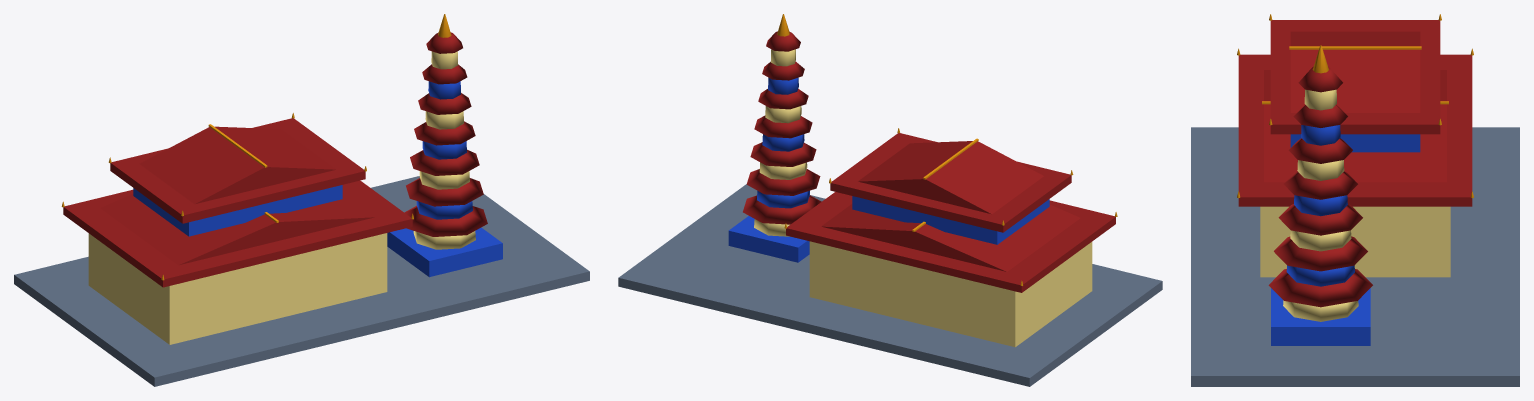
Rendered from lm_16_chua_linh_phuoc_base.glb.
3 renders of one model, left to right at view 1: azimuth 30°, elevation 25°; view 2: azimuth 150°, elevation 25°; view 3: azimuth 270°, elevation 25°, orthographic. The views are drawn at different scales.
Visible parts, largest first — view 1: courtyard_plinth, main_hall_body, main_hall_roof1_eave_skirt, main_hall_roof2_eave_skirt, main_hall_roof2_upper_pitch_slope_l, main_hall_roof1_upper_pitch_slope_l, stupa_pedestal, main_hall_upper, main_hall_roof2_upper_pitch_slope_r, main_hall_roof1_upper_pitch_gable_f, stupa_eave_0, main_hall_roof2_upper_pitch_gable_f (+13 smaller); view 2: courtyard_plinth, main_hall_body, main_hall_roof1_eave_skirt, main_hall_roof2_eave_skirt, main_hall_roof2_upper_pitch_slope_l, main_hall_roof1_upper_pitch_slope_l, main_hall_upper, main_hall_roof2_upper_pitch_slope_r, stupa_pedestal, main_hall_roof1_upper_pitch_gable_b, main_hall_roof2_upper_pitch_gable_b, stupa_eave_1 (+11 smaller); view 3: courtyard_plinth, main_hall_roof1_eave_skirt, main_hall_body, main_hall_roof2_eave_skirt, main_hall_roof2_upper_pitch_slope_r, main_hall_roof1_upper_pitch_slope_r, stupa_pedestal, stupa_eave_0, main_hall_roof2_upper_pitch_slope_l, stupa_eave_1, stupa_eave_2, main_hall_upper (+13 smaller).
Boxes of the visible parts, bbox=[...] form: courtyard_plinth: bbox=[14, 176, 589, 386]; main_hall_body: bbox=[88, 233, 387, 344]; main_hall_roof1_eave_skirt: bbox=[63, 180, 412, 287]; main_hall_roof2_eave_skirt: bbox=[110, 118, 365, 223]; main_hall_roof2_upper_pitch_slope_l: bbox=[139, 127, 264, 204]; main_hall_roof1_upper_pitch_slope_l: bbox=[101, 194, 275, 265]; stupa_pedestal: bbox=[387, 227, 502, 277]; main_hall_upper: bbox=[133, 185, 342, 236]; main_hall_roof2_upper_pitch_slope_r: bbox=[215, 126, 336, 169]; main_hall_roof1_upper_pitch_gable_f: bbox=[180, 217, 374, 264]; stupa_eave_0: bbox=[404, 205, 487, 236]; main_hall_roof2_upper_pitch_gable_f: bbox=[196, 167, 335, 203]; courtyard_plinth: bbox=[618, 184, 1162, 386]; main_hall_body: bbox=[809, 241, 1092, 347]; main_hall_roof1_eave_skirt: bbox=[786, 192, 1115, 292]; main_hall_roof2_eave_skirt: bbox=[830, 133, 1071, 232]; main_hall_roof2_upper_pitch_slope_l: bbox=[926, 141, 1043, 213]; main_hall_roof1_upper_pitch_slope_l: bbox=[915, 204, 1080, 271]; main_hall_upper: bbox=[852, 196, 1049, 244]; main_hall_roof2_upper_pitch_slope_r: bbox=[858, 141, 972, 181]; stupa_pedestal: bbox=[728, 216, 809, 262]; main_hall_roof1_upper_pitch_gable_b: bbox=[822, 226, 1005, 271]; main_hall_roof2_upper_pitch_gable_b: bbox=[859, 179, 990, 213]; stupa_eave_1: bbox=[746, 169, 820, 195]; courtyard_plinth: bbox=[1191, 127, 1519, 386]; main_hall_roof1_eave_skirt: bbox=[1238, 54, 1472, 206]; main_hall_body: bbox=[1260, 206, 1450, 277]; main_hall_roof2_eave_skirt: bbox=[1270, 20, 1440, 134]; main_hall_roof2_upper_pitch_slope_r: bbox=[1290, 49, 1420, 112]; main_hall_roof1_upper_pitch_slope_r: bbox=[1264, 104, 1446, 182]; stupa_pedestal: bbox=[1271, 288, 1370, 345]; stupa_eave_0: bbox=[1268, 269, 1372, 307]; main_hall_roof2_upper_pitch_slope_l: bbox=[1290, 31, 1420, 46]; stupa_eave_1: bbox=[1274, 236, 1367, 271]; stupa_eave_2: bbox=[1278, 204, 1362, 235]; main_hall_upper: bbox=[1290, 134, 1420, 152].
Bounding box in the file's own units: 68 × 37 × 38.
